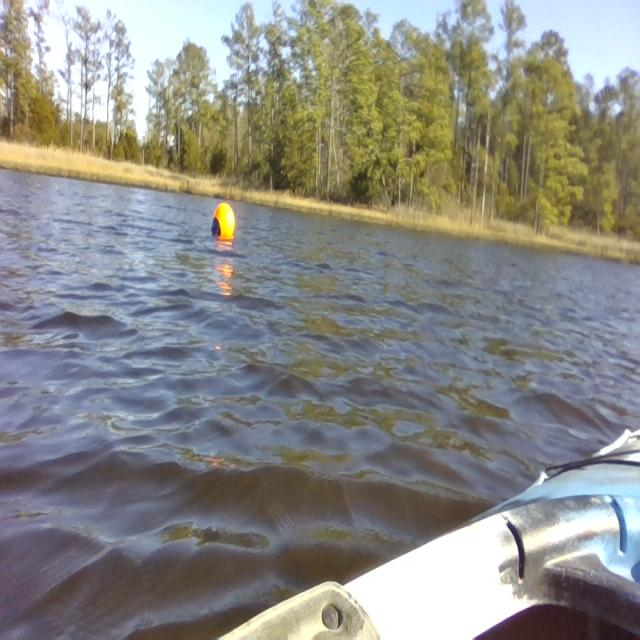Buoy: (206, 196, 242, 248)
